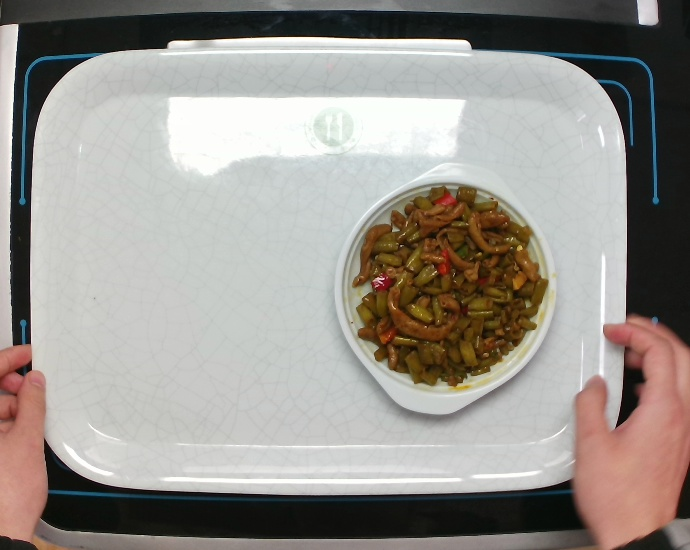JYsf-Shuang_Er_Pan: (326, 159, 567, 424)
